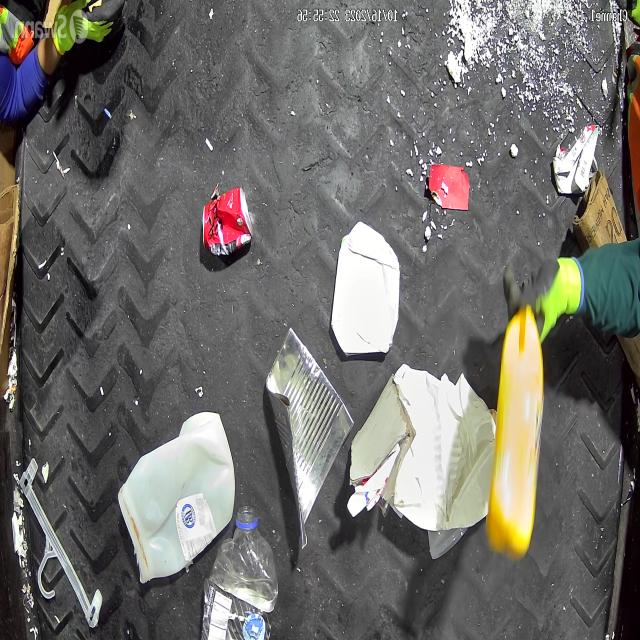can: (265, 325, 355, 554), (202, 185, 253, 256)
milk_jug: (118, 412, 236, 585)
non_white_jug: (485, 308, 545, 558)
plastic_bottle: (202, 506, 278, 640)
